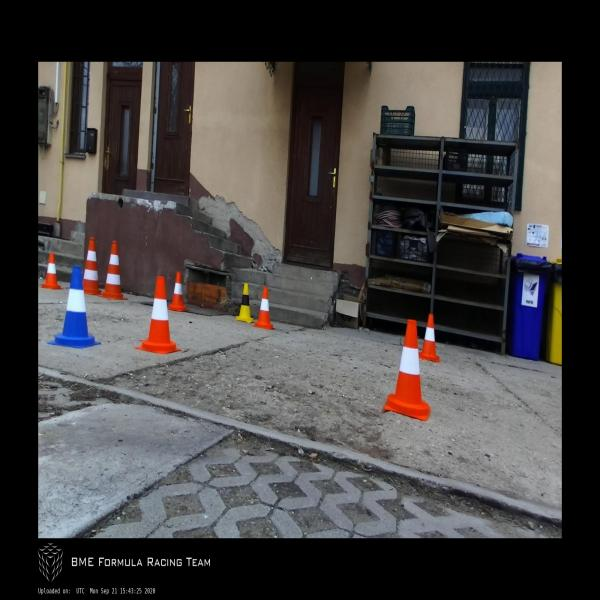blue_cone: (47, 266, 102, 349)
large_orange_cone: (98, 240, 128, 300), (82, 238, 101, 296)
orange_cone: (383, 319, 431, 422), (135, 276, 181, 354), (419, 314, 440, 363), (252, 286, 275, 330), (40, 253, 64, 289), (168, 271, 189, 312)
yellow_cone: (236, 283, 255, 323)
